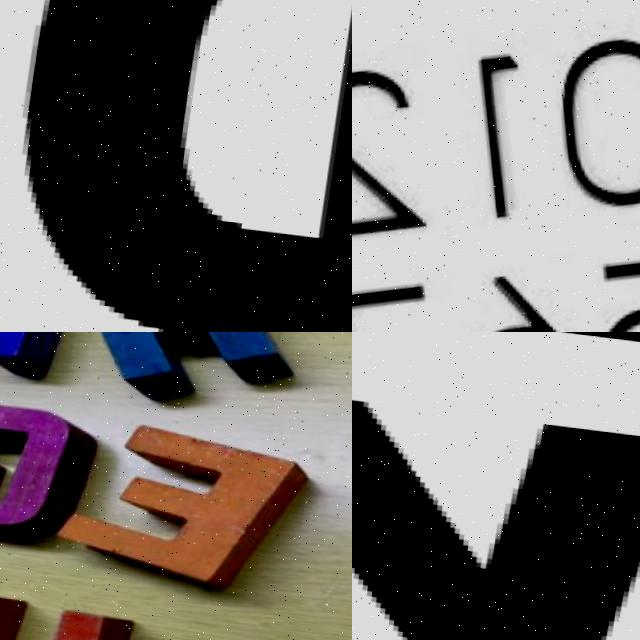0: (534, 5, 640, 215)
1: (447, 22, 564, 224)
2: (352, 37, 453, 250)
5: (577, 224, 640, 332)
6: (437, 239, 619, 332)
7: (352, 239, 476, 332)
D: (4, 0, 352, 332)
E: (57, 408, 300, 585)
G: (0, 389, 108, 544)
K: (68, 332, 275, 413)
U: (0, 583, 156, 640)
Y: (352, 363, 640, 640)
